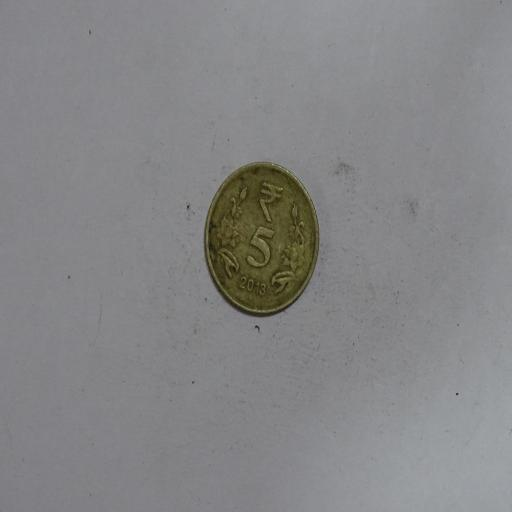rupee5: (202, 161, 320, 320)
